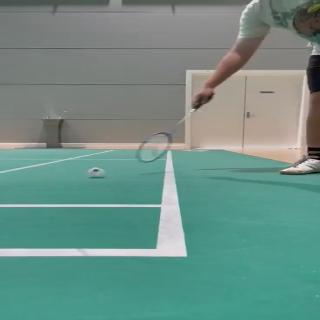Shuttle: (86, 166, 105, 178)
